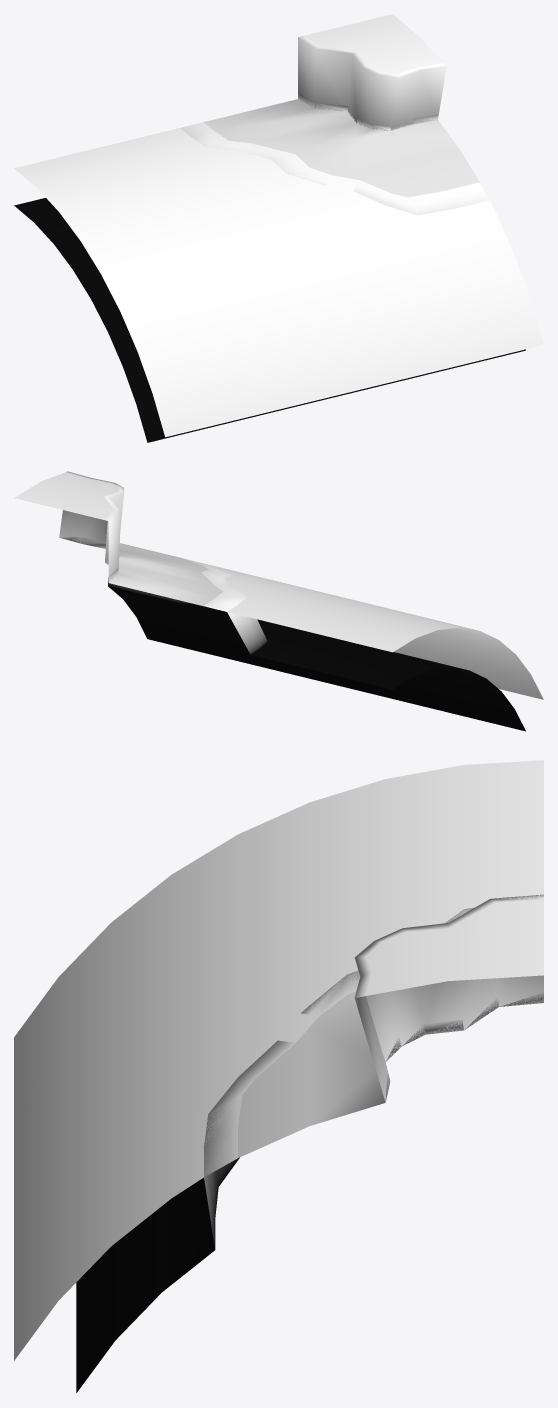
File: grd_Msw_c_0.dae
3 renders of one model, top to bottom at view 1: azimuth 30°, elevation 25°; view 2: azimuth 150°, elevation 25°; view 3: azimuth 270°, elevation 25°, orthographic. The views are drawn at different scales.
Visible parts, largest first — view 1: grd_Msw_c_0; view 2: grd_Msw_c_0; view 3: grd_Msw_c_0.
Boxes of the visible parts, x1,y1,x2,y2 form: grd_Msw_c_0: (14, 14, 543, 442); grd_Msw_c_0: (14, 471, 543, 731); grd_Msw_c_0: (14, 760, 543, 1392).
Size of the model in its own units: 512 by 308 by 354.
6 materials, 1 textured.
